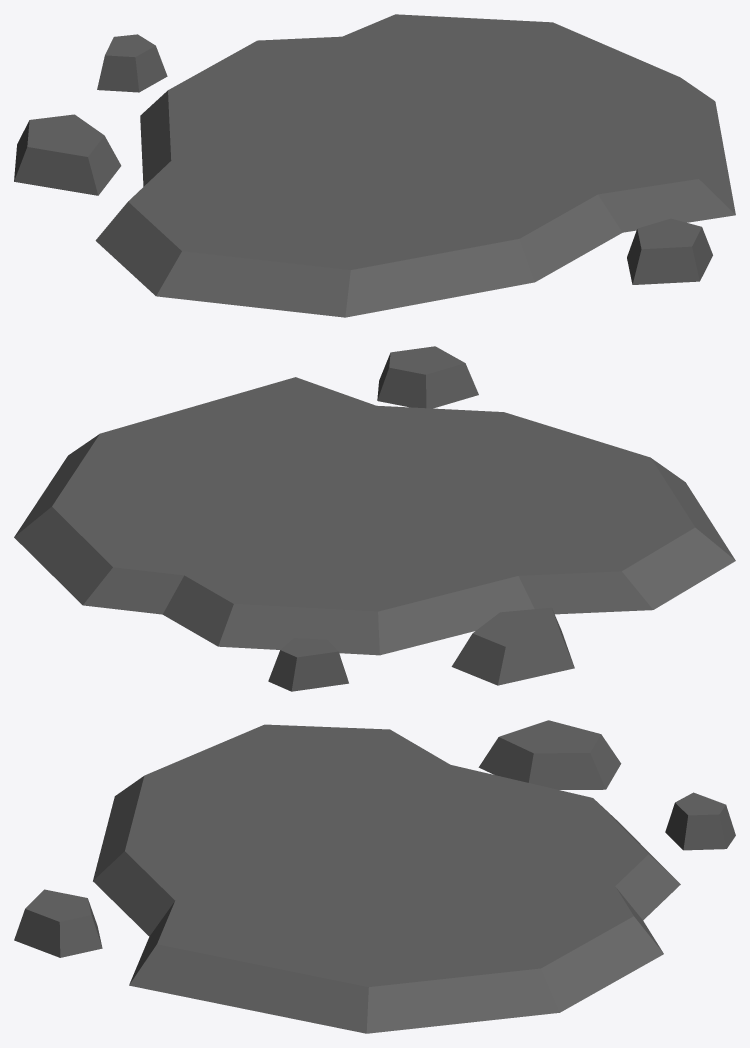
The model's file is SM_Prop_BloodPool_02.glb.
3 views of the same model, one above another, from view 1: azimuth 30°, elevation 25°; view 2: azimuth 150°, elevation 25°; view 3: azimuth 270°, elevation 25° (orthographic). The views are drawn at different scales.
Visible parts, largest first — view 1: SM_Prop_BloodPool_02; view 2: SM_Prop_BloodPool_02; view 3: SM_Prop_BloodPool_02.
Boxes of the visible parts, <box> form: SM_Prop_BloodPool_02: <box>14,14,735,317</box>; SM_Prop_BloodPool_02: <box>14,346,735,691</box>; SM_Prop_BloodPool_02: <box>14,720,735,1033</box>.
Bounding box in the file's own units: 0.8931 × 0.0432 × 0.9245.
Materials: 1 (1 with a texture image).
